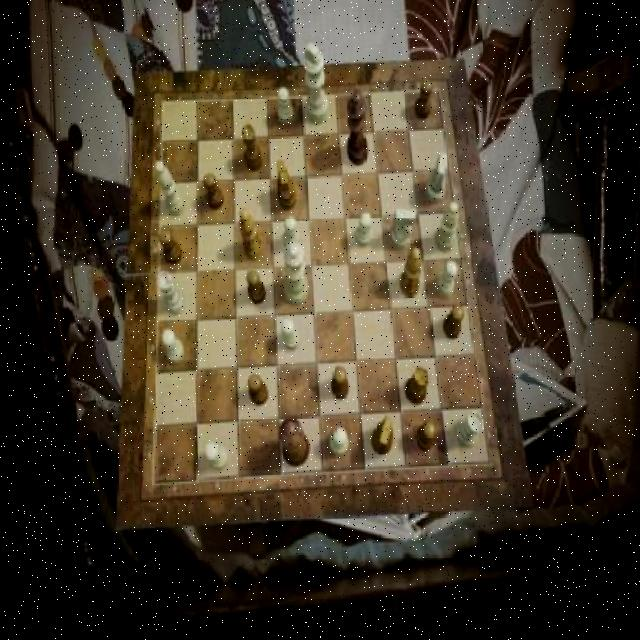bishop: (237, 209, 262, 262), (397, 248, 421, 299)
black-bishop: (346, 89, 368, 166)
black-king: (274, 160, 295, 211), (368, 418, 392, 456)
black-knight: (158, 228, 182, 265), (440, 305, 463, 340), (202, 174, 223, 210), (413, 81, 432, 119), (243, 269, 263, 304), (245, 375, 266, 408), (412, 421, 433, 452), (328, 367, 346, 401)
black-pawn: (275, 418, 307, 469)
black-queen: (403, 367, 429, 405), (241, 125, 262, 171)
black-rook: (154, 160, 185, 217), (432, 204, 458, 253)
white-bishop: (303, 43, 329, 124)
white-king: (423, 153, 448, 204), (389, 210, 415, 250)
white-knight: (434, 261, 458, 298), (159, 328, 182, 363), (279, 317, 299, 351), (200, 444, 225, 471), (280, 217, 298, 252), (353, 213, 371, 248), (277, 88, 294, 125), (325, 429, 345, 456)
white-pawn: (281, 243, 307, 306)
white-queen: (154, 271, 183, 315), (451, 413, 482, 449)
